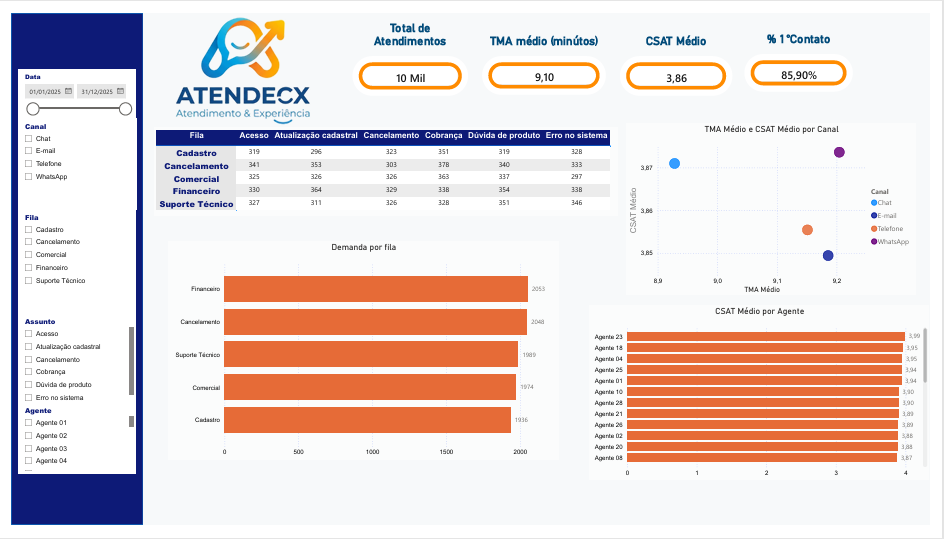

The page's visual inventory and layout, read from the dashboard file:
{"tool":"powerbi","page":{"name":"Análise de Atendimento","canvas":[1800,1000],"ordinal":3},"visuals":[{"type":"shape","box":[0,0,258,1000],"z":0},{"type":"slicer","fields":{"Values":["Atendimento.Data"]},"box":[14,110,231,95],"z":1000},{"type":"slicer","fields":{"Values":["Atendimento.Canal"]},"box":[14,206,232,178],"z":2000},{"type":"slicer","fields":{"Values":["Atendimento.Agente"]},"box":[14,762,231,137],"z":3000},{"type":"slicer","fields":{"Values":["Atendimento.Assunto"]},"box":[14,588,231,174],"z":4000},{"type":"slicer","fields":{"Values":["Atendimento.Fila"]},"box":[14,384,231,204],"z":5000},{"type":"image","box":[308,0,292,220],"z":6000},{"type":"cardVisual","title":"Total de Atendimentos","fields":{"Data":["Atendimento.Total de atendimentos"]},"box":[664,16,236,150],"z":7000},{"type":"cardVisual","title":"CSAT Médio","fields":{"Data":["ABC_Produtos.CSAT Médio"]},"box":[1188,42,230,124],"z":13000},{"type":"cardVisual","title":"% 1°Contato","fields":{"Data":["Atendimento.% 1º Contato"]},"box":[1432,38,222,120],"z":14000},{"type":"pivotTable","fields":{"Rows":["Atendimento.Fila"],"Columns":["Atendimento.Assunto"],"Values":["Atendimento.Total de Chamadas"]},"box":[280,224,908,174],"z":15000},{"type":"clusteredBarChart","title":"Demanda por fila","fields":{"Category":["Atendimento.Fila"],"Y":["Atendimento.Total de Chamadas"]},"box":[308,446,766,428],"z":15001},{"type":"scatterChart","fields":{"Y":["Atendimento.CSAT Médio"],"X":["Atendimento.TMA Médio"],"Series":["Atendimento.Canal"]},"box":[1206,216,568,336],"z":15002},{"type":"clusteredBarChart","fields":{"Category":["Atendimento.Agente"],"Y":["Atendimento.CSAT Médio"]},"box":[1134,572,666,342],"z":15003},{"type":"cardVisual","title":"TMA médio (minútos)","fields":{"Data":["ABC_Produtos.TMA Médio"]},"box":[918,42,252,122],"z":15004}]}

Visuals, with their boxes in screenshot pixels (x1, y1, x2, y2), scaled from the page's 1800x1000 canvas onto the 944x539 screenshot:
shape: (0, 0, 135, 538)
slicer - Atendimento.Data: (7, 59, 128, 110)
slicer - Atendimento.Canal: (7, 111, 129, 207)
slicer - Atendimento.Agente: (7, 411, 128, 485)
slicer - Atendimento.Assunto: (7, 317, 128, 411)
slicer - Atendimento.Fila: (7, 207, 128, 317)
image: (162, 0, 315, 119)
"Total de Atendimentos" cardVisual: (348, 9, 472, 89)
"CSAT Médio" cardVisual: (623, 23, 744, 89)
"% 1°Contato" cardVisual: (751, 20, 867, 85)
pivotTable - Atendimento.Fila x Atendimento.Assunto: (147, 121, 623, 215)
"Demanda por fila" clusteredBarChart: (162, 240, 563, 471)
scatterChart - Atendimento.CSAT Médio x Atendimento.TMA Médio: (632, 116, 930, 298)
clusteredBarChart - Atendimento.Agente x Atendimento.CSAT Médio: (595, 308, 943, 493)
"TMA médio (minútos)" cardVisual: (481, 23, 614, 88)
